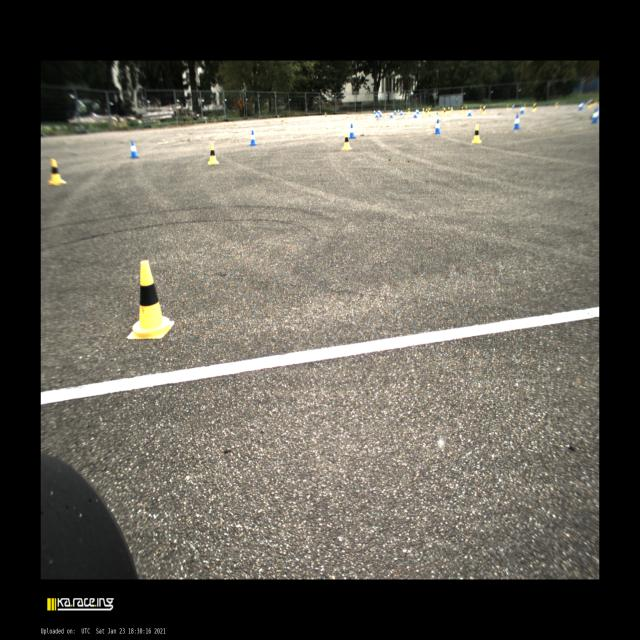blue_cone: (590, 107, 600, 124), (130, 141, 139, 158), (249, 130, 257, 146), (513, 114, 521, 129), (434, 119, 441, 134), (349, 124, 356, 138), (578, 100, 584, 111), (519, 105, 524, 114), (413, 110, 418, 118), (467, 108, 472, 116), (375, 111, 379, 117), (390, 110, 393, 118), (379, 110, 382, 116), (416, 108, 419, 114), (586, 100, 589, 105), (400, 110, 403, 114), (373, 110, 376, 114), (450, 106, 452, 112), (394, 109, 396, 114), (398, 108, 400, 113), (512, 104, 514, 109), (379, 109, 380, 114)
yellow_cone: (127, 260, 174, 339), (49, 159, 66, 185), (208, 143, 219, 165), (471, 123, 482, 144), (342, 132, 352, 150), (587, 99, 593, 109), (532, 102, 537, 112), (442, 108, 447, 116), (593, 98, 598, 106), (482, 106, 486, 115), (428, 107, 432, 115), (464, 106, 468, 113), (460, 106, 464, 113), (425, 108, 428, 116), (555, 102, 559, 108), (479, 105, 482, 111), (506, 104, 509, 110), (448, 107, 450, 114), (408, 108, 410, 114), (422, 108, 424, 114), (442, 107, 444, 113), (451, 106, 453, 112), (524, 104, 526, 110), (428, 107, 429, 112)
